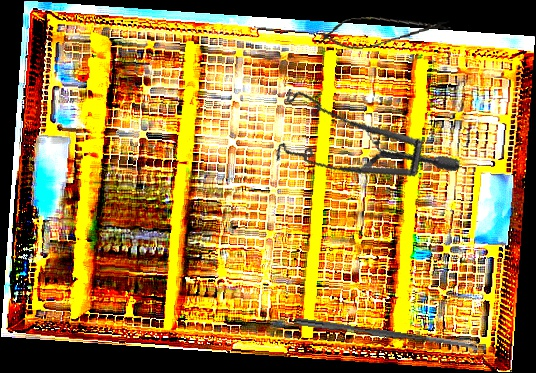Micro Scissor: (317, 8, 454, 53)
Speculum: (258, 53, 463, 213)
Surgical Spoon: (293, 317, 487, 353)
